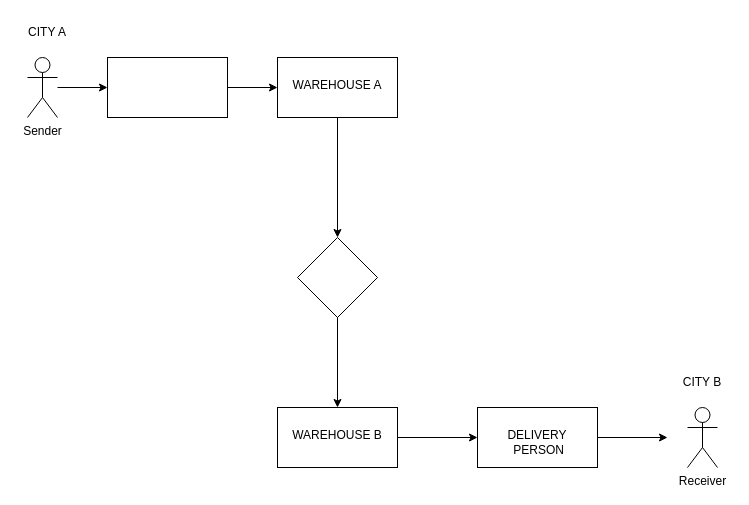
Some shapes in this 749 by 505 pixel diagram are drawn without their labels. Here are the shapes that lost their labels. From the top down, the centre of each, then its label:
At point 167,87: "OFFICE A".
At point 337,277: "IN TRANSIT".
